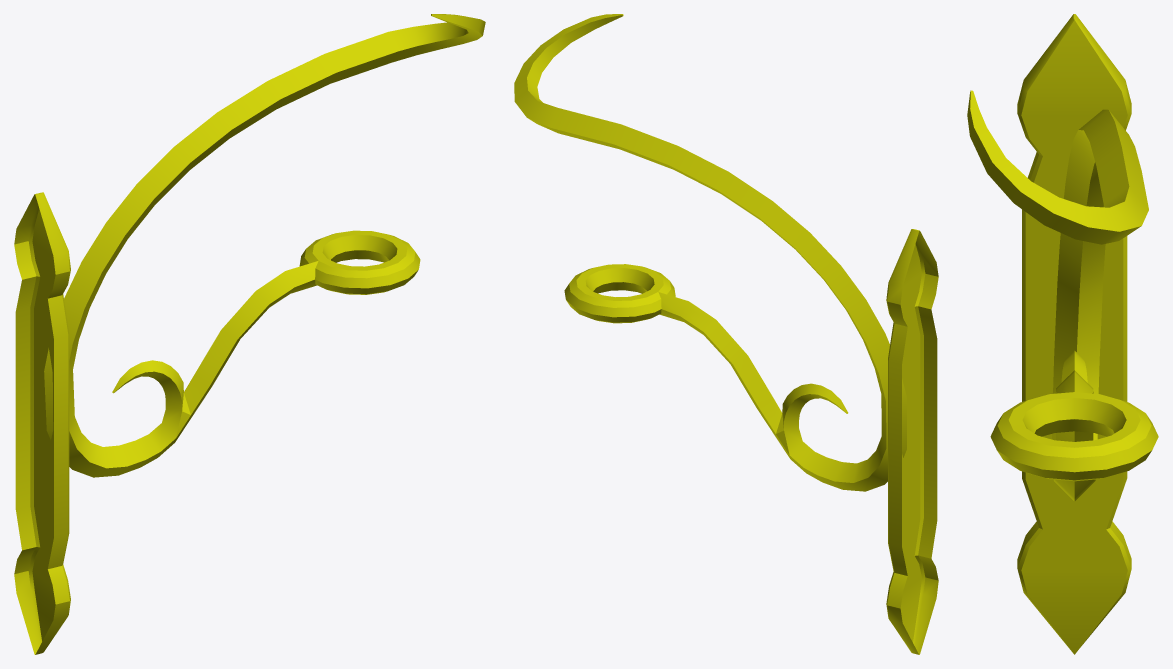
Rendered from dfk_torch_holder.fbx.
The picture shows the model from 3 angles, left to right: view 1: azimuth 30°, elevation 25°; view 2: azimuth 150°, elevation 25°; view 3: azimuth 270°, elevation 25°; orthographic projection. The views are drawn at different scales.
Visible parts, largest first — view 1: TorchHolder; view 2: TorchHolder; view 3: TorchHolder.
Boxes of the visible parts, x1,y1,x2,y2 form: TorchHolder: (14, 14, 485, 654); TorchHolder: (514, 14, 938, 654); TorchHolder: (967, 14, 1158, 654).
Size of the model in its own units: 0.324 by 0.4105 by 0.089.
